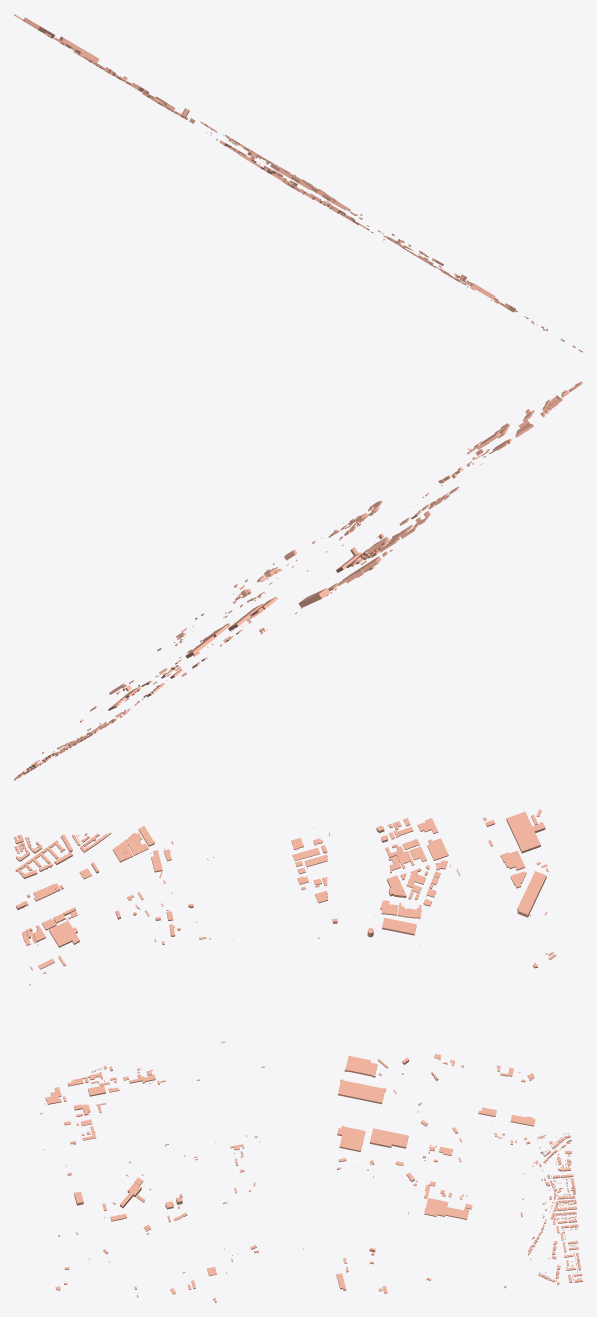
3 views of the same model, one above another, from view 1: azimuth 30°, elevation 25°; view 2: azimuth 150°, elevation 25°; view 3: azimuth 270°, elevation 25° (orthographic). The views are drawn at different scales.
Size of the model in its own units: 2038 by 1510 by 2565.
